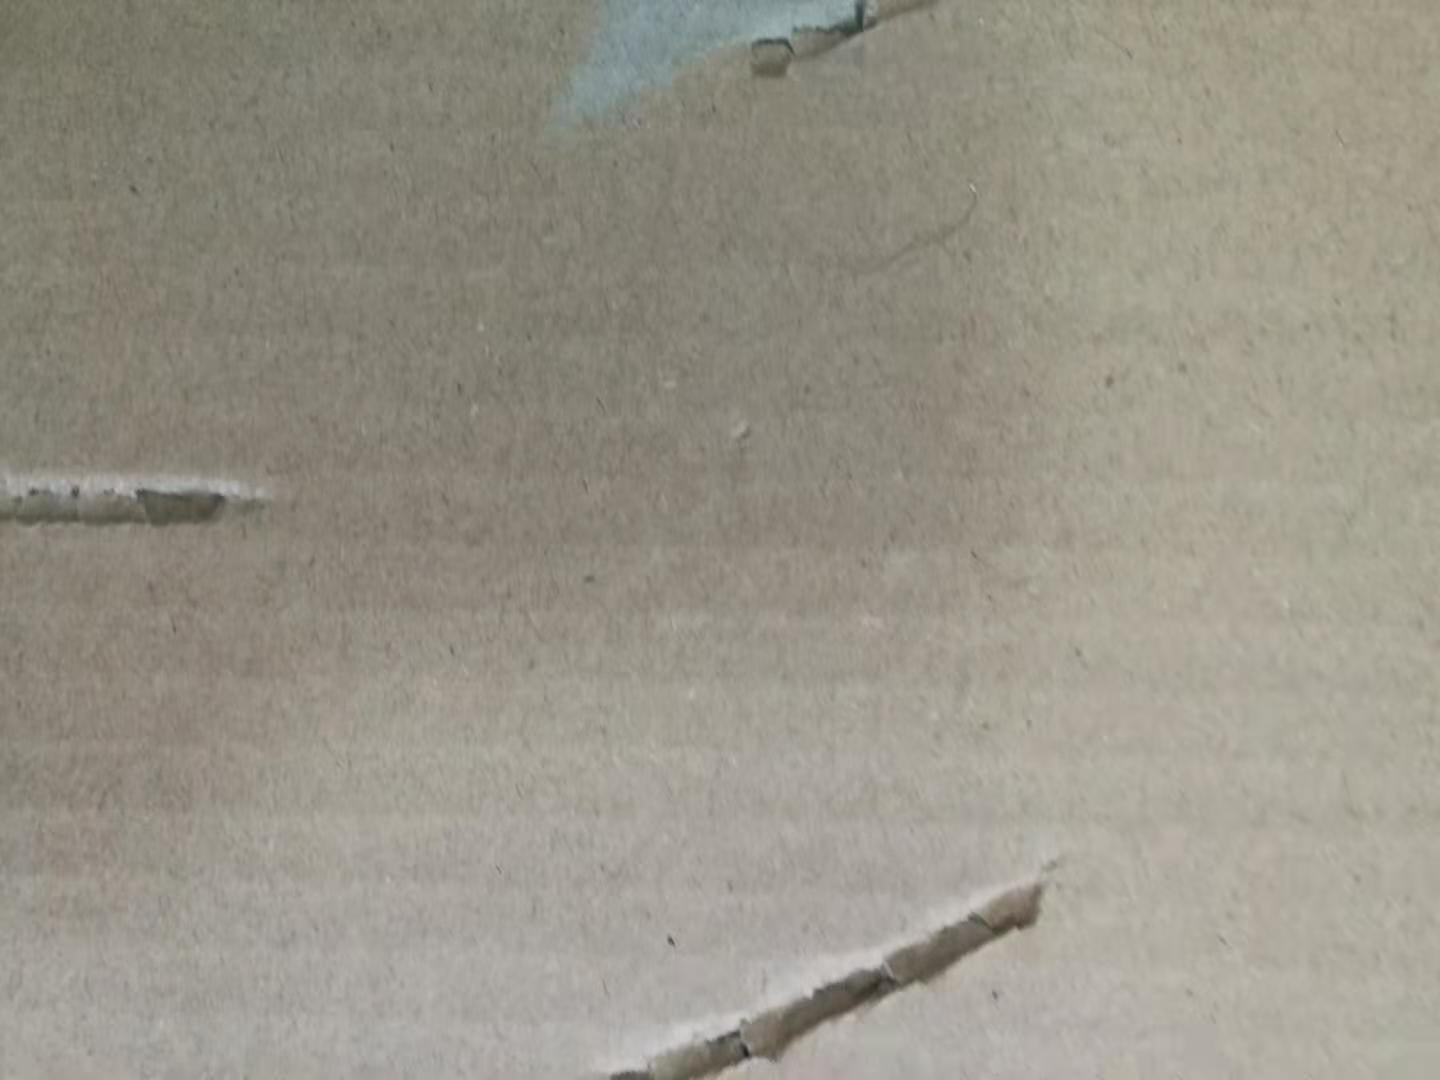defect: (575, 839, 1086, 1080), (517, 3, 971, 158), (1, 438, 324, 574)
